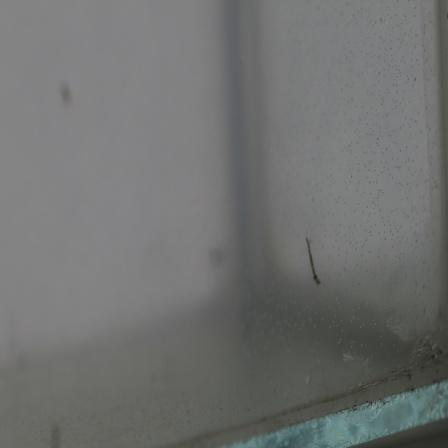Jentik-Nyamuk: (299, 236, 326, 289)
